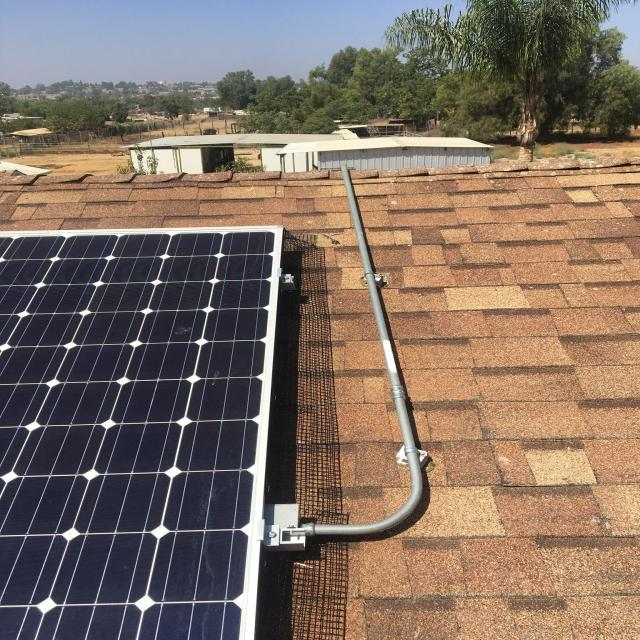clean-solar-panel: (0, 226, 282, 640)
